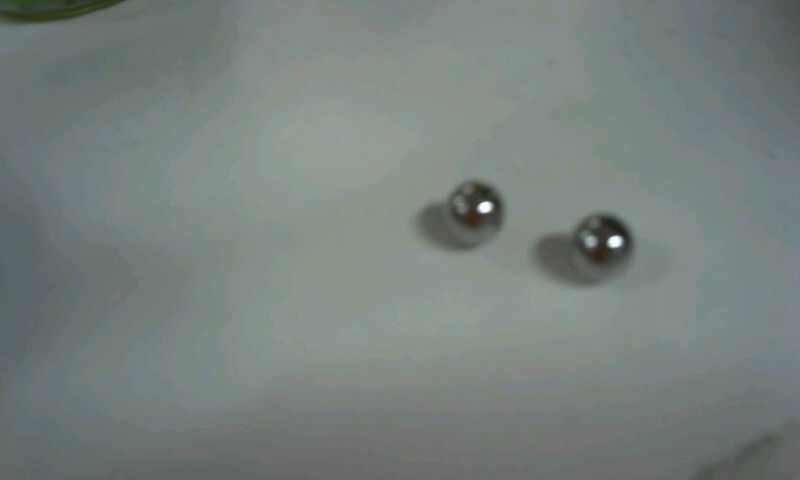steelball: (563, 202, 649, 293), (435, 168, 516, 251)
